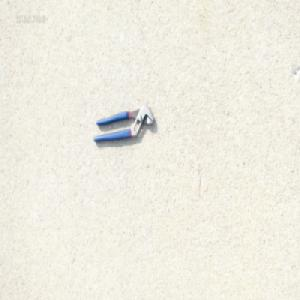Pliers: (91, 103, 155, 144)
